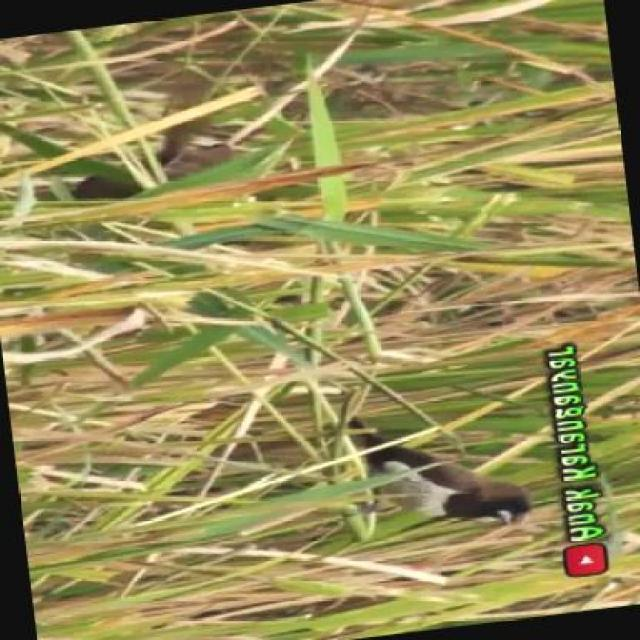Bird: (344, 406, 533, 543)
